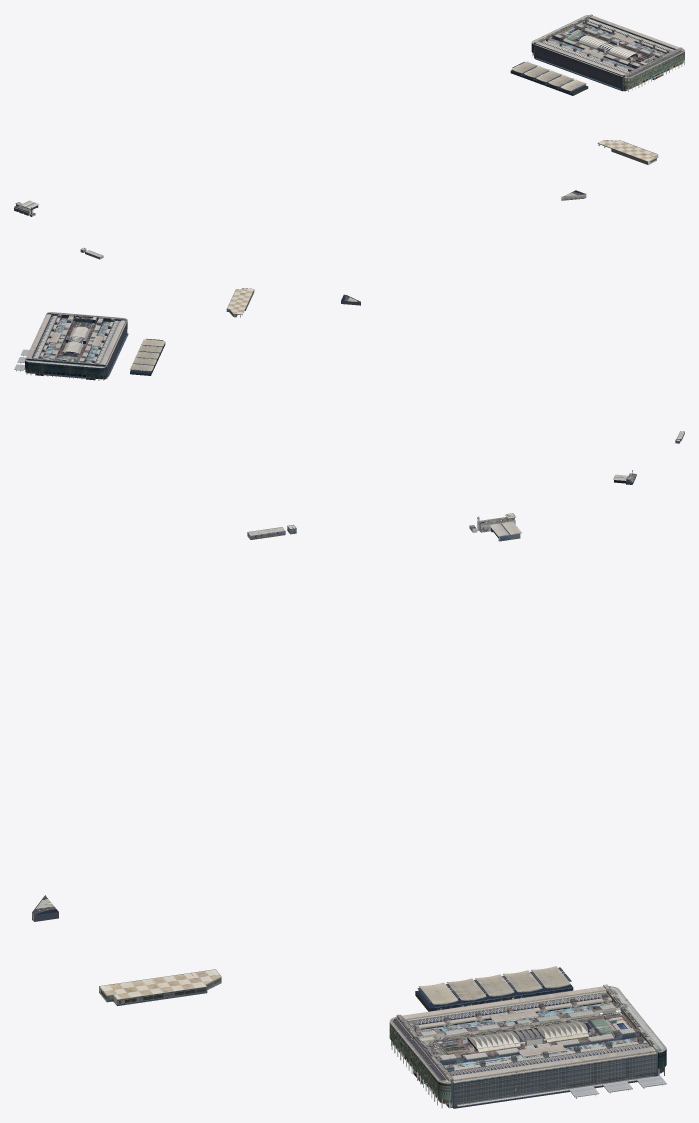
File: surrounding_buildings_04.glb
3 renders of one model, top to bottom at view 1: azimuth 30°, elevation 25°; view 2: azimuth 150°, elevation 25°; view 3: azimuth 270°, elevation 25°, orthographic. The views are drawn at different scales.
Parts seen in each view (by area): view 1: B107181779101063A0.001, B105481774301063A0.001, B105191735301062A0.001; view 2: B107181779101063A0.001, B105481774301063A0.001, B105191735301062A0.001; view 3: B107181779101063A0.001, B105481774301063A0.001, B105191735301062A0.001.
Boxes of the visible parts, x1,y1,x2,y2 form: B107181779101063A0.001: [531, 14, 684, 91]; B105481774301063A0.001: [510, 61, 588, 95]; B105191735301062A0.001: [597, 140, 658, 164]; B107181779101063A0.001: [14, 312, 128, 380]; B105481774301063A0.001: [130, 338, 165, 375]; B105191735301062A0.001: [226, 288, 254, 317]; B107181779101063A0.001: [389, 984, 666, 1108]; B105481774301063A0.001: [415, 966, 573, 1011]; B105191735301062A0.001: [99, 969, 221, 1005].
Bounding box in the file's own units: 1685 × 41.92 × 769.
Materials: 18 (18 with a texture image).
